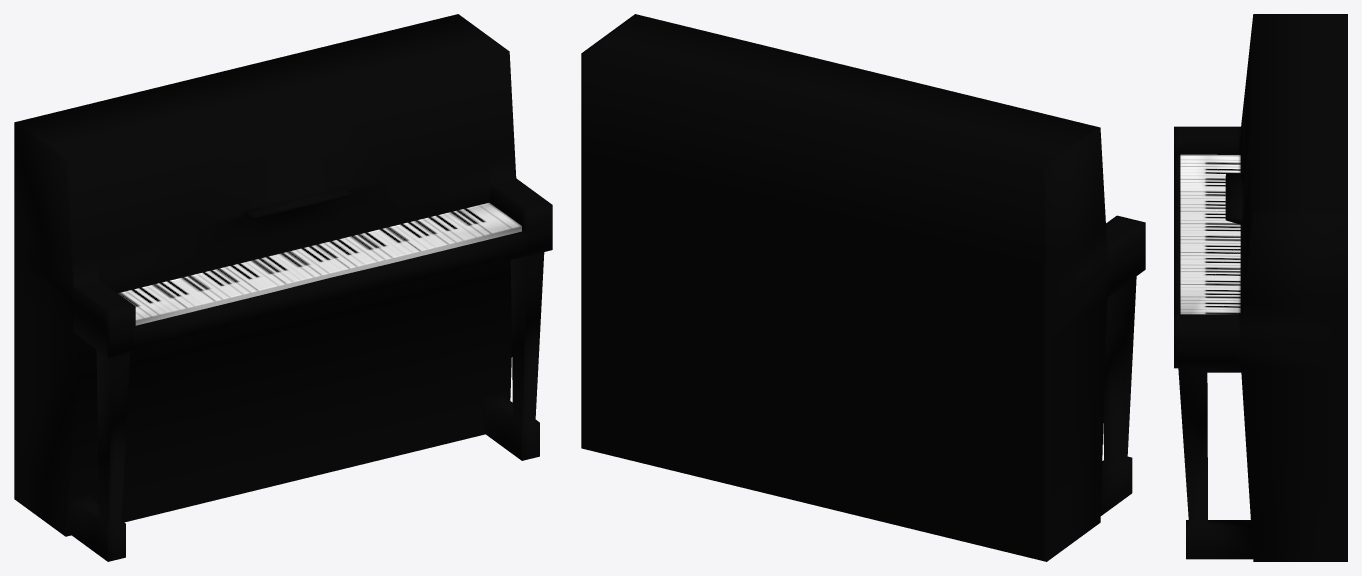
File: piano.glb
3 views of the same model, side by side, from view 1: azimuth 30°, elevation 25°; view 2: azimuth 150°, elevation 25°; view 3: azimuth 270°, elevation 25° (orthographic). The views are drawn at different scales.
Visible parts, largest first — view 1: Cube; view 2: Cube; view 3: Cube.
Boxes of the visible parts, x1,y1,x2,y2 form: Cube: (14, 14, 552, 561); Cube: (581, 14, 1145, 561); Cube: (1174, 14, 1347, 561).
Size of the model in its own units: 1.5 by 1.22 by 0.551.
Materials: 1 (1 with a texture image).
